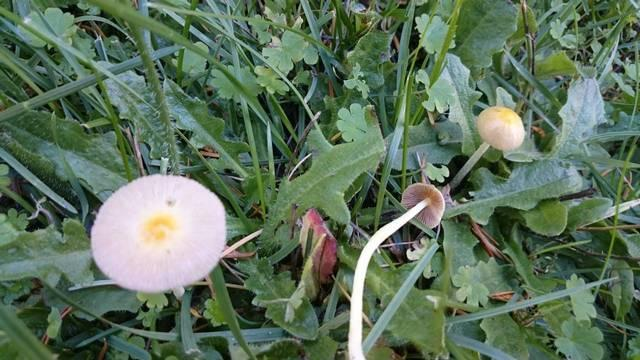edible_mushroom: (89, 172, 227, 295), (475, 105, 525, 151), (400, 181, 445, 228)
